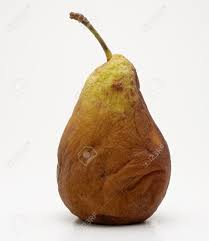damaged_pear: (56, 54, 175, 228)
